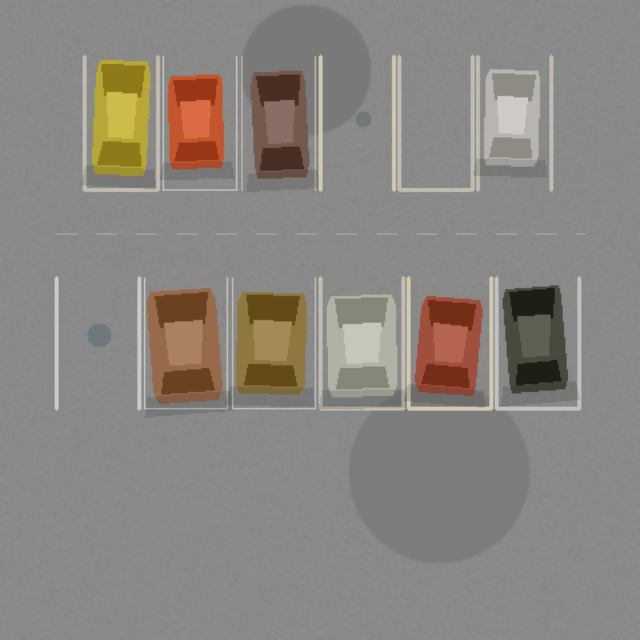space-empty: (56, 277, 139, 408), (320, 56, 393, 189), (399, 56, 472, 189)
space-occupied: (144, 277, 227, 408), (232, 277, 315, 408), (320, 277, 403, 408), (408, 277, 491, 408), (496, 277, 579, 408), (241, 56, 315, 189), (477, 56, 551, 189), (84, 56, 157, 189), (163, 56, 236, 189)
